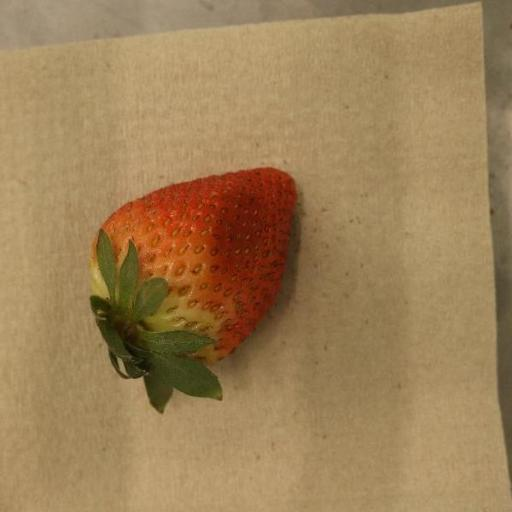Strawberry: (89, 168, 298, 415)
